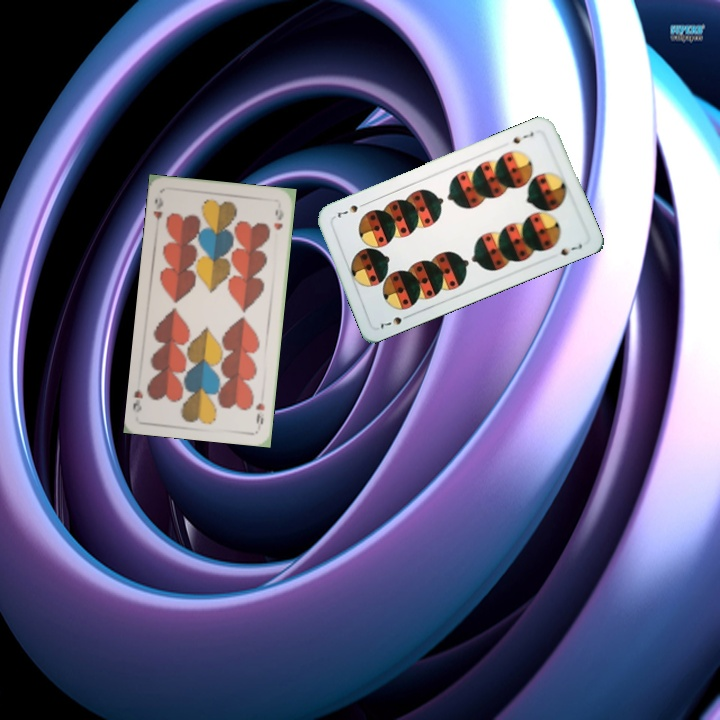H9: (149, 194, 166, 230), (252, 399, 267, 430)
S7: (376, 310, 414, 332), (507, 128, 536, 146)
